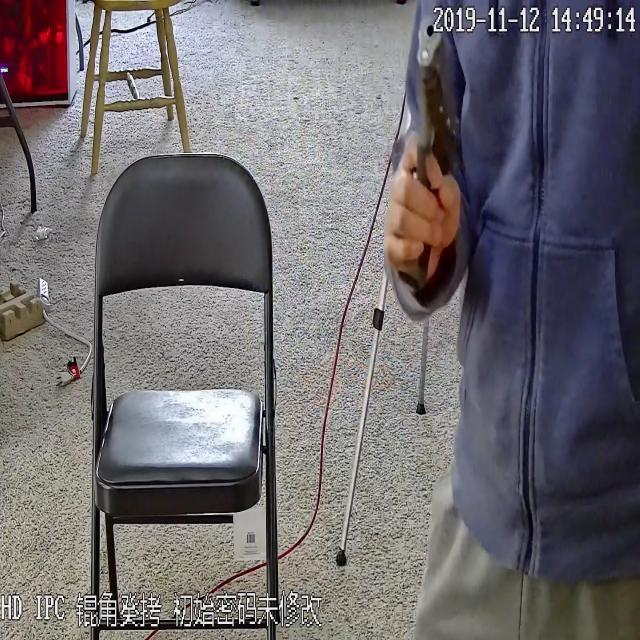gun-knife-thesis - v11 Yolov5 augmented: (374, 19, 470, 325)
